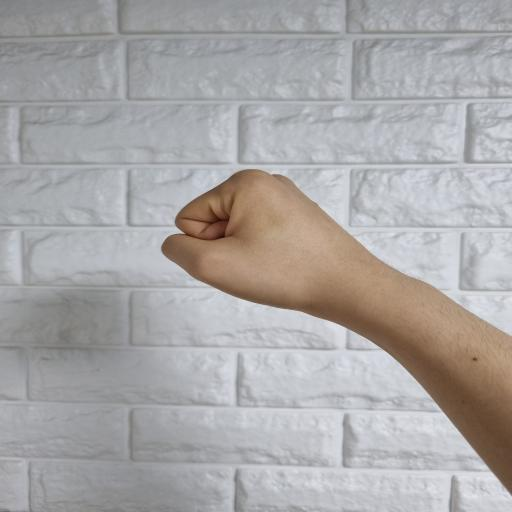Rock: (161, 168, 378, 316)
